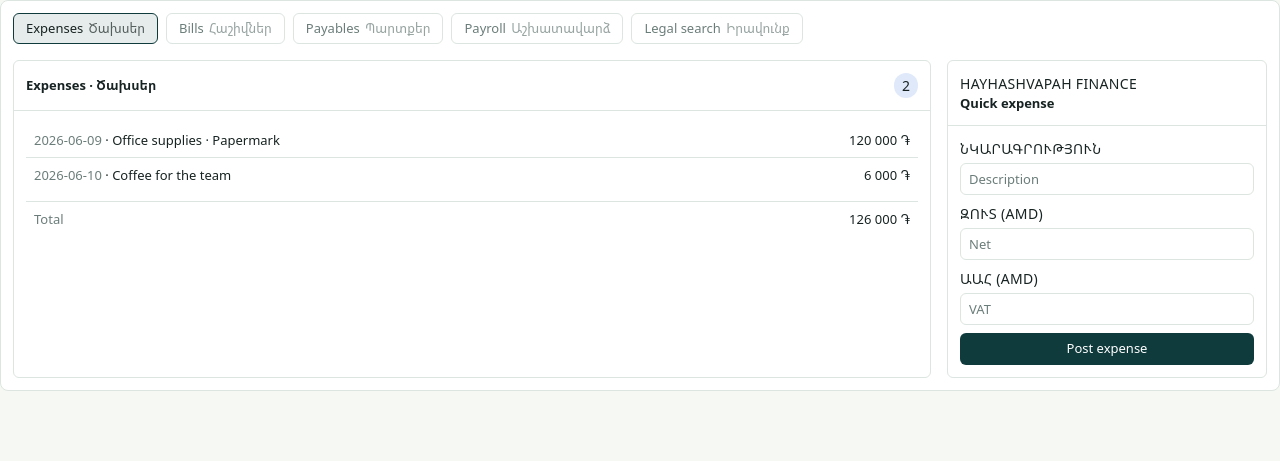
Test: FinanceWorkflowPanel — Payables tab › renders the three metric cards (billed/outstanding/overdue)
The image size is (1280, 461).
Click the tab "Payables Պարտքեր" at (368, 29), box top-left (293, 13), bottom-right (444, 44)
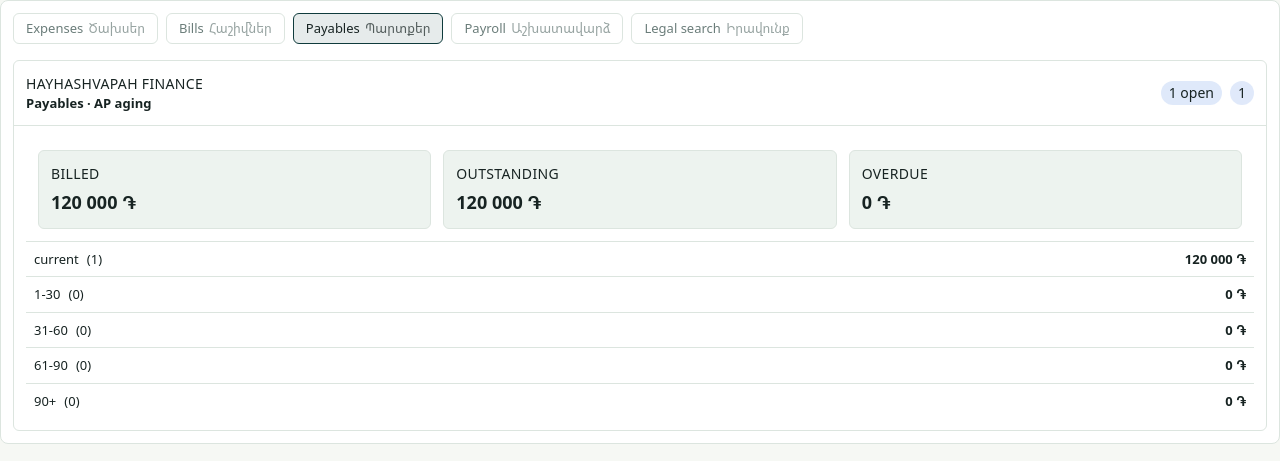
Check: the element with test id "finance-payables-metric-billed" is shown, box top-left (38, 150), bottom-right (431, 229)
Check: the element with test id "finance-payables-metric-outstanding" is shown, box top-left (443, 150), bottom-right (837, 229)
Check: the element with test id "finance-payables-metric-overdue" is shown, box top-left (849, 150), bottom-right (1242, 229)
